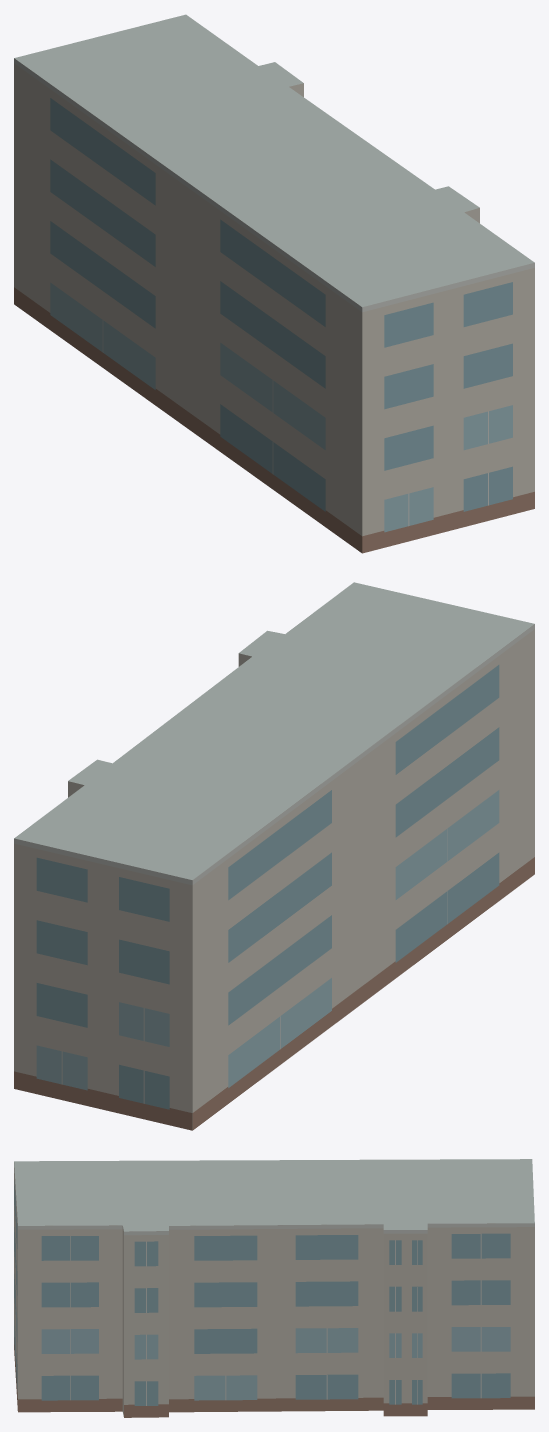
File: survey-upis-32551914.glb
The picture shows the model from 3 angles, top to bottom: view 1: azimuth 30°, elevation 25°; view 2: azimuth 150°, elevation 25°; view 3: azimuth 270°, elevation 25°; orthographic projection. The views are drawn at different scales.
Visible parts, largest first — view 1: survey-upis-32551914.tmp; view 2: survey-upis-32551914.tmp; view 3: survey-upis-32551914.tmp.
Part boxes in pixels (x1,y1,x2,y2): survey-upis-32551914.tmp: [14, 14, 534, 553]; survey-upis-32551914.tmp: [14, 582, 534, 1130]; survey-upis-32551914.tmp: [14, 1159, 534, 1417].
Bounding box in the file's own units: 9.89 × 11.85 × 30.03.
